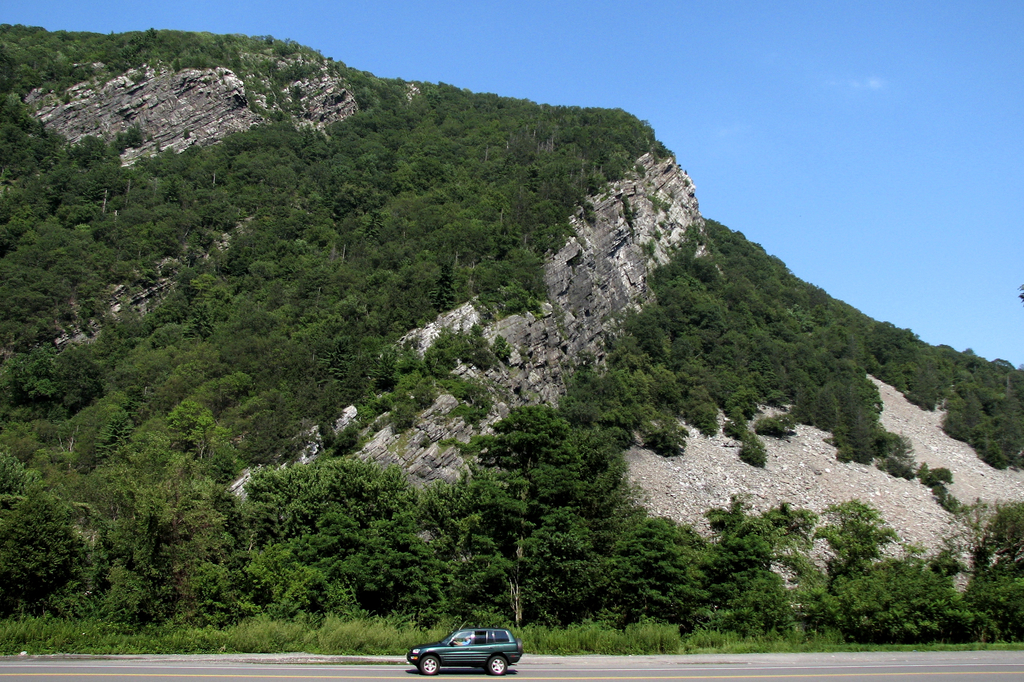Tree: (0, 28, 1021, 624), (810, 493, 904, 584), (737, 432, 767, 466)
